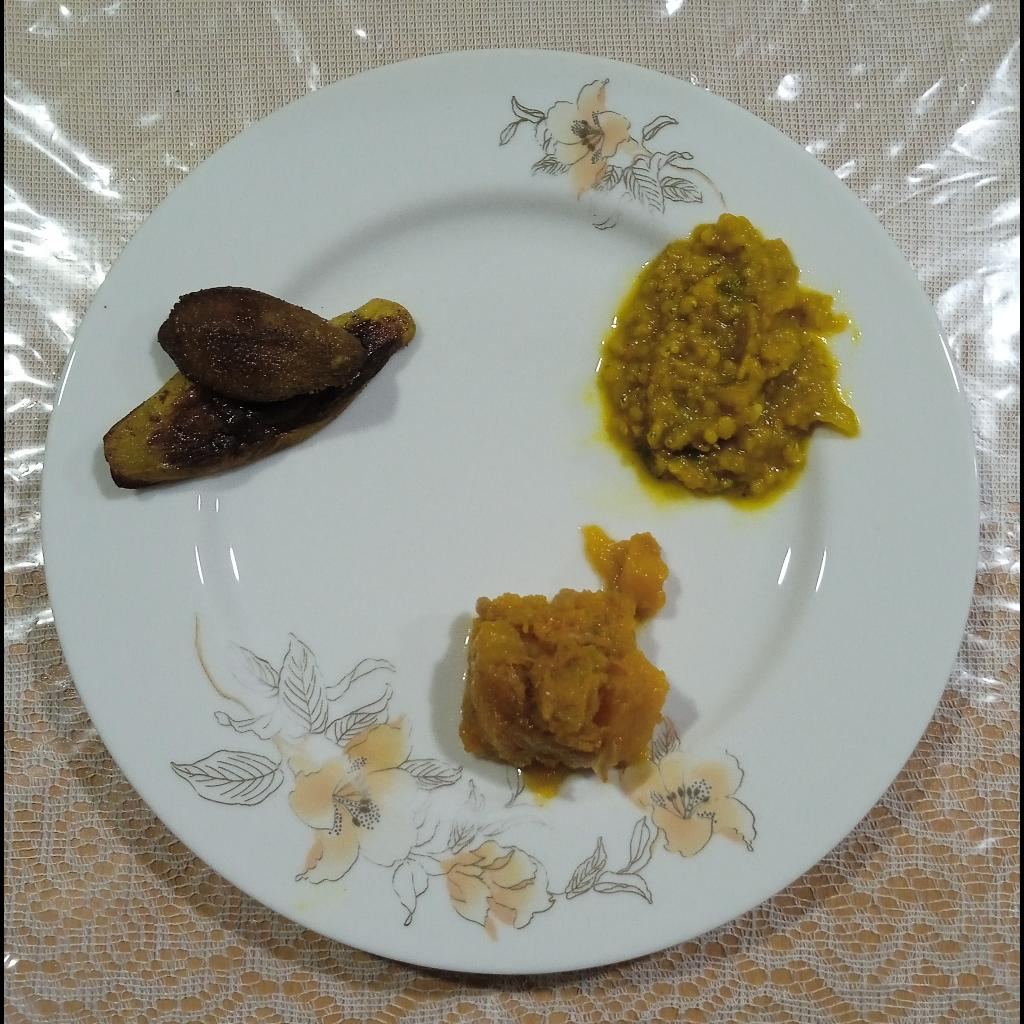daal: (607, 214, 862, 498)
kumra-vaji: (460, 525, 672, 772)
potol: (105, 284, 417, 493)
